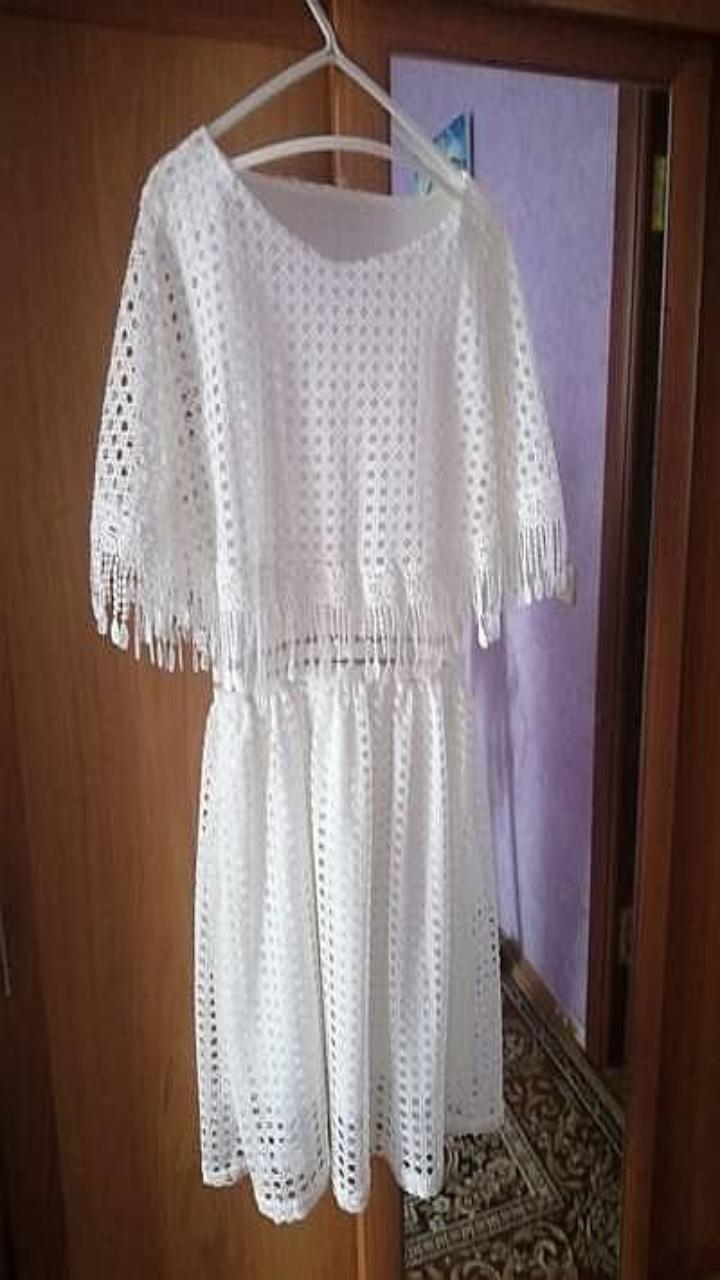Dresses: (91, 126, 572, 1220)
